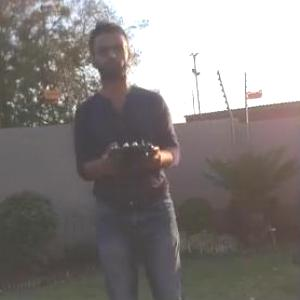follow: (69, 14, 193, 299)
